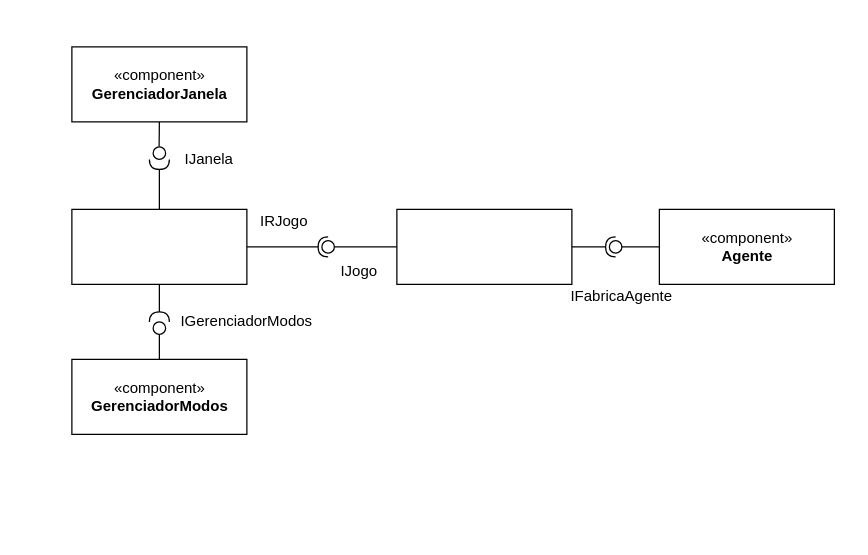
Image size: 868x555. Some labels were removed from this diagram. Each missing label, with the box of its shape:
«component» Jogo: (396, 208, 572, 284)
«component» Motor: (71, 208, 247, 284)
